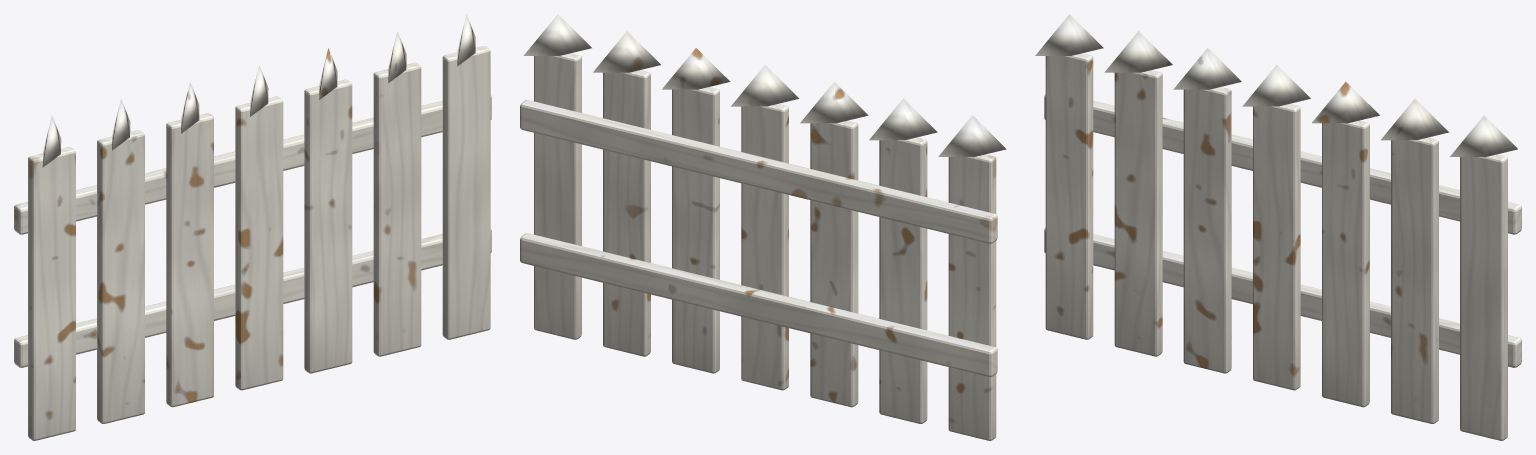
Rendered from picket_fence.glb.
3 views of the same model, side by side, from view 1: azimuth 30°, elevation 25°; view 2: azimuth 150°, elevation 25°; view 3: azimuth 330°, elevation 25° (orthographic).
Visible parts, largest first — view 1: PicketFence; view 2: PicketFence; view 3: PicketFence.
Part boxes in pixels (x1,y1,x2,y2): PicketFence: (14, 14, 491, 440); PicketFence: (520, 14, 1006, 440); PicketFence: (1035, 14, 1521, 440).
Bounding box in the file's own units: 1.3 × 0.84 × 0.1202.
Materials: 1 (1 with a texture image).
